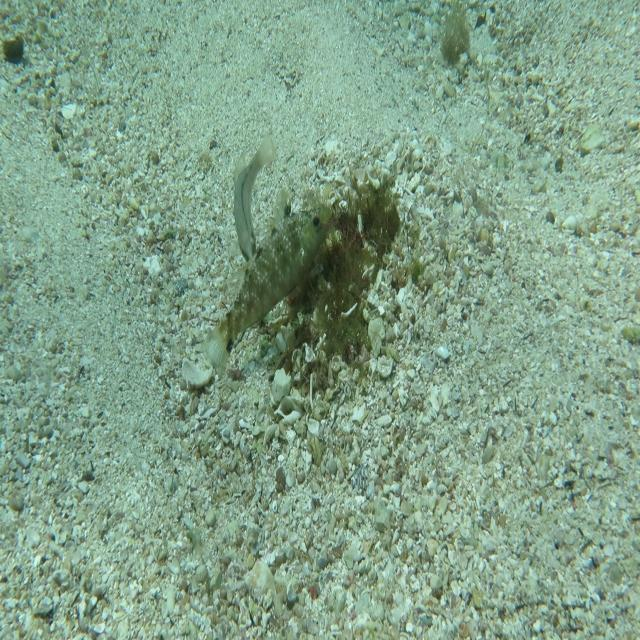core_nest: (330, 205, 389, 262)
female: (201, 186, 331, 379), (232, 131, 279, 263)
nest: (267, 165, 412, 406)
